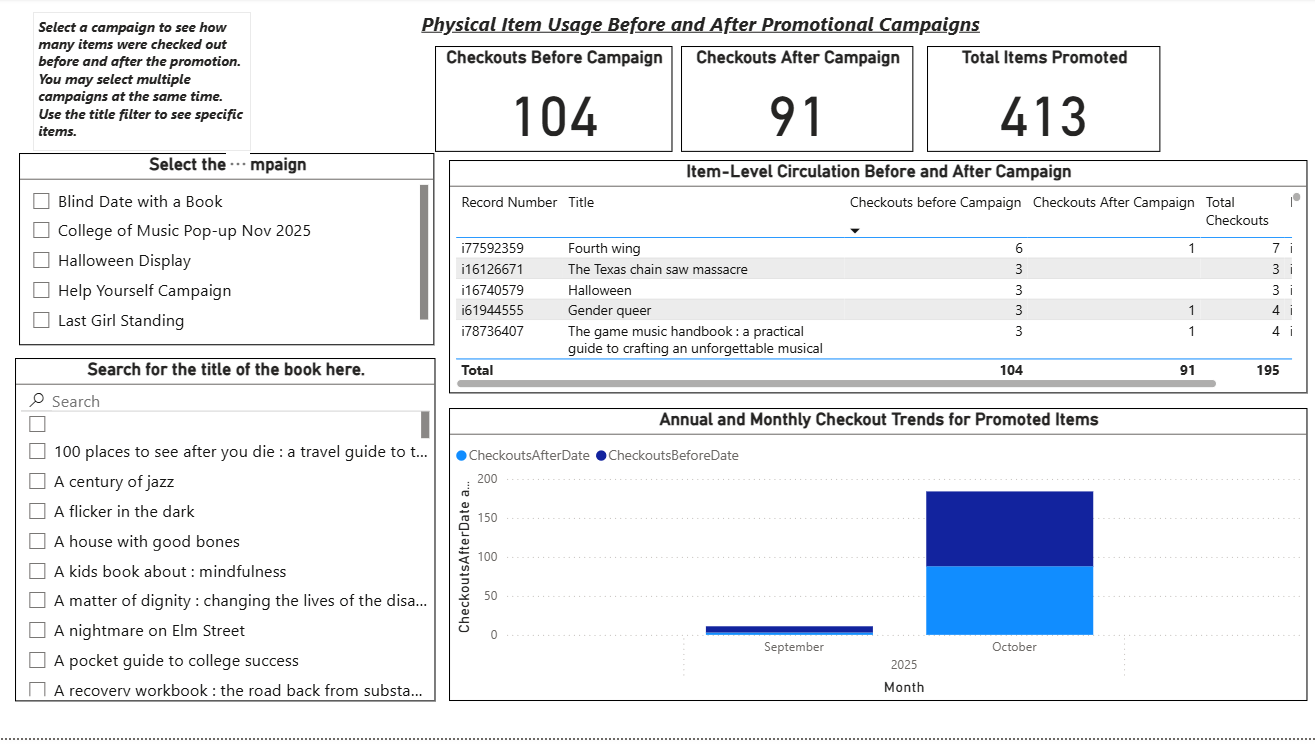

The page's visual inventory and layout, read from the dashboard file:
{"tool":"powerbi","page":{"name":"USAGE METRICS (PHYSICAL)","canvas":[1280,720],"ordinal":2},"visuals":[{"type":"slicer","title":"Select the Campaign","fields":{"Values":["MergedPromoRecords.Campaign Name"]},"box":[18.9,151.2,404.4,187.1],"z":1000},{"type":"slicer","title":"Search for the title of the book here.","fields":{"Values":["MergedPromoRecords.Title"]},"box":[14.6,350.2,408.5,333.6],"z":2000},{"type":"card","title":"Checkouts After Campaign","fields":{"Values":["H.vItemCheckoutsWithRecords.CheckoutsAfterDate"]},"box":[662.6,46.4,226,103.5],"z":3000},{"type":"card","title":"Checkouts Before Campaign","fields":{"Values":["H.vItemCheckoutsWithRecords.CheckoutsBeforeDate"]},"box":[423.5,46.4,230.8,103.5],"z":4000},{"type":"tableEx","title":"Item-Level Circulation Before and After Campaign","fields":{"Values":["MergedPromoRecords.Record Number","MergedPromoRecords.Title","H.vItemCheckoutsWithRecords.CheckoutsBeforeDate","H.vItemCheckoutsWithRecords.CheckoutsAfterDate","Sum(H.vItemCheckoutsWithRecords.NumCheckouts)","H.vItemCheckoutsWithRecords.ItemRecNum"]},"box":[436.7,157.6,834.5,226.6],"z":5000},{"type":"textbox","box":[32.1,13.6,212,135.2],"z":6000},{"type":"textbox","box":[349.8,7.2,662.6,39.1],"z":7000},{"type":"card","title":"Total Items Promoted","fields":{"Values":["MergedPromoRecords.Total_Resources Promoted"]},"box":[901.7,46.4,227.2,103.5],"z":8000},{"type":"columnChart","title":"Annual and Monthly Checkout Trends for Promoted Items","fields":{"Category":["Calendar.Calendar.Variation.Date Hierarchy.Year","Calendar.Calendar.Variation.Date Hierarchy.Month"],"Y":["H.vItemCheckoutsWithRecords.CheckoutsAfterDate","H.vItemCheckoutsWithRecords.CheckoutsBeforeDate"]},"box":[436.7,398.8,834.5,285],"z":9000}]}

Visuals, with their boxes in screenshot pixels (x1, y1, x2, y2), scaled from the page's 1280x720 canvas onto the 1315x744 screenshot:
"Select the Campaign" slicer: Rect(19, 156, 435, 350)
"Search for the title of the book here." slicer: Rect(15, 362, 435, 707)
"Checkouts After Campaign" card: Rect(681, 48, 913, 155)
"Checkouts Before Campaign" card: Rect(435, 48, 672, 155)
"Item-Level Circulation Before and After Campaign" tableEx: Rect(449, 163, 1306, 397)
textbox: Rect(33, 14, 251, 154)
textbox: Rect(359, 7, 1040, 48)
"Total Items Promoted" card: Rect(926, 48, 1160, 155)
"Annual and Monthly Checkout Trends for Promoted Items" columnChart: Rect(449, 412, 1306, 707)
